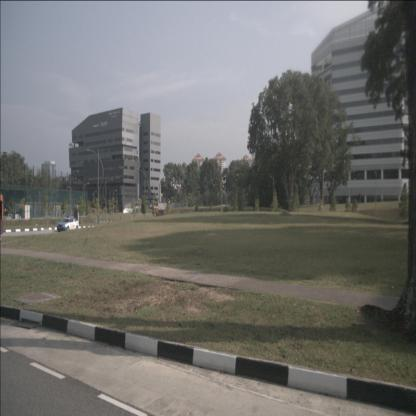vehicle-car: (57, 217, 79, 231)
